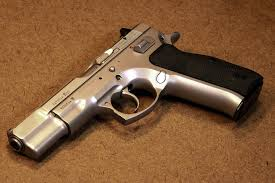gun: (4, 21, 265, 160)
